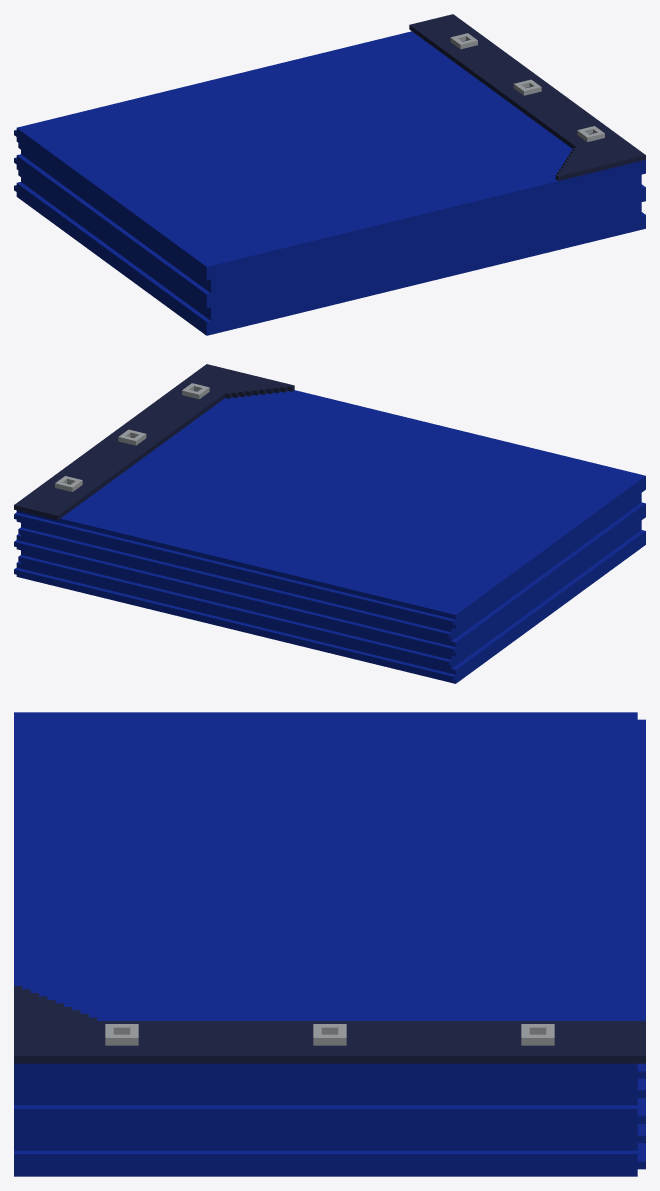
Rendered from tarp.glb.
3 renders of one model, top to bottom at view 1: azimuth 30°, elevation 25°; view 2: azimuth 150°, elevation 25°; view 3: azimuth 270°, elevation 25°, orthographic. The views are drawn at different scales.
Visible parts, largest first — view 1: tarp:compound; view 2: tarp:compound; view 3: tarp:compound.
Part boxes in pixels (<box>): tarp:compound: <box>14,14,645,335</box>; tarp:compound: <box>14,364,645,683</box>; tarp:compound: <box>14,712,645,1176</box>.
Bounding box in the file's own units: 0.4 × 0.068 × 0.304.
